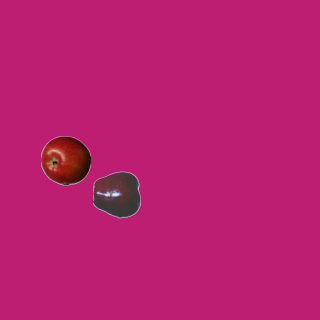Apple Braeburn: (40, 135, 90, 185)
Apple Red Delicious: (92, 169, 142, 219)
